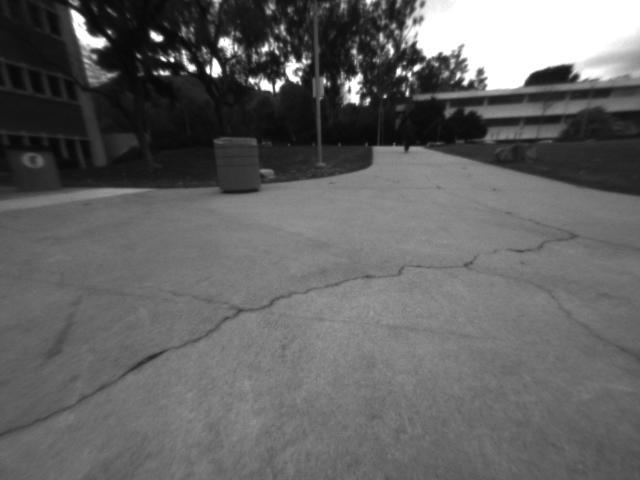trashcan: (209, 133, 266, 200), (8, 140, 66, 196)
